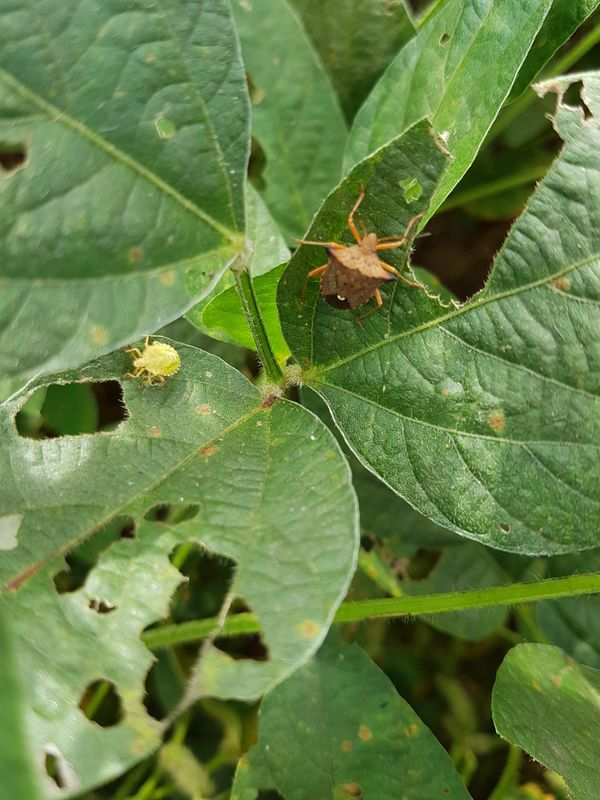Euschistus_heros_adulto: (275, 178, 452, 346)
Euschistus_heros_ninfa: (116, 325, 187, 400)
